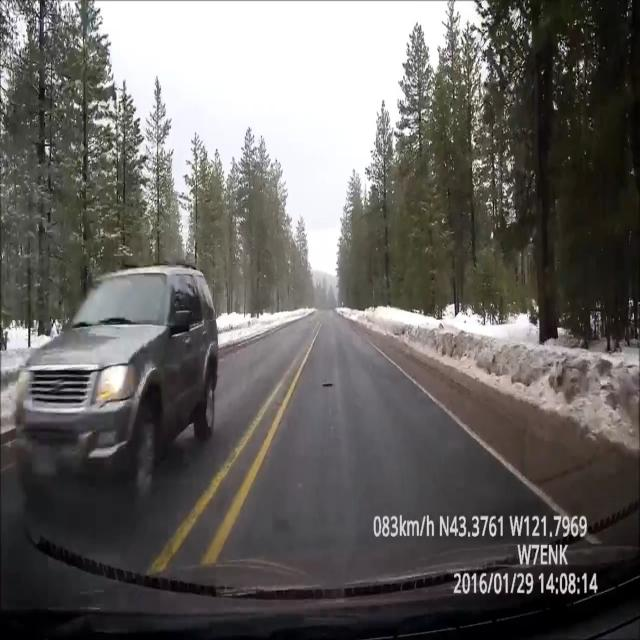Pothole: (321, 372, 335, 394)
